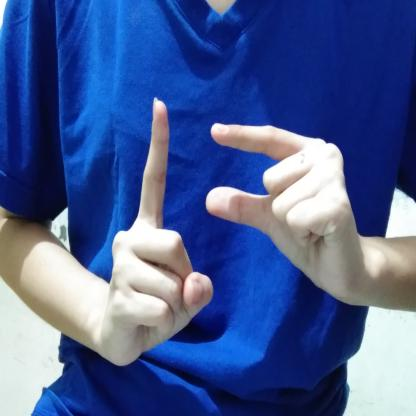daughter: (106, 93, 366, 370)
